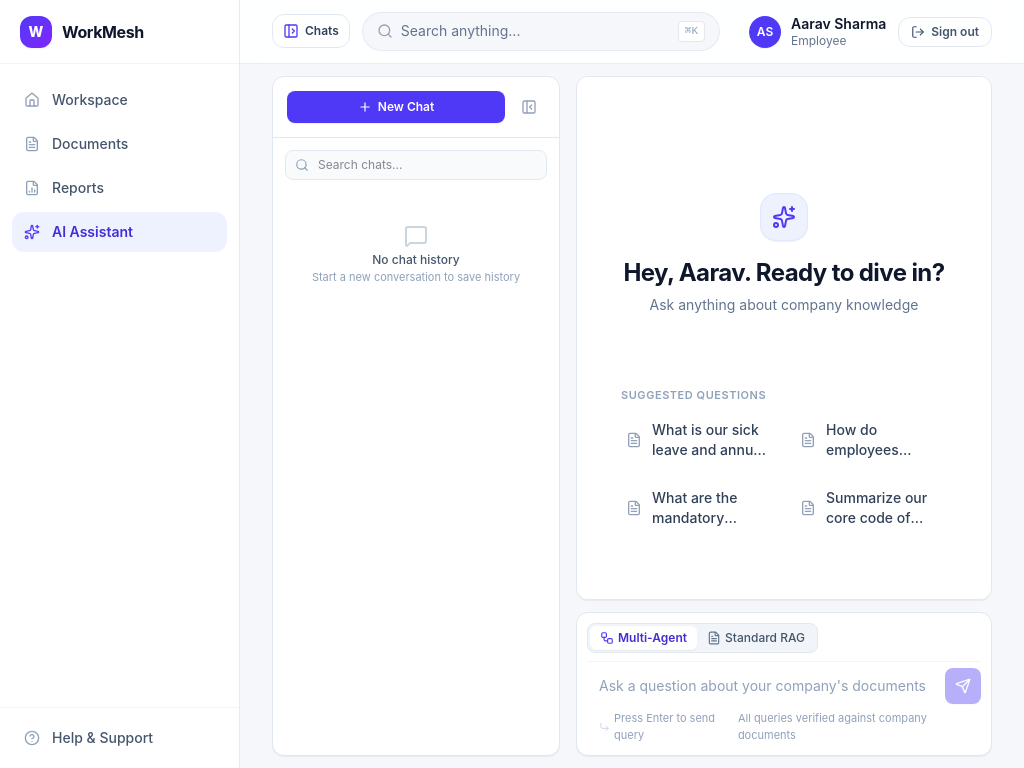
Test: KnowledgeAssistantPage › displays error alert banner when API fails
In the field with placeholder "Ask a question about your company's documents...": (762, 686) left=587, top=668, right=937, bottom=704, type "test question"
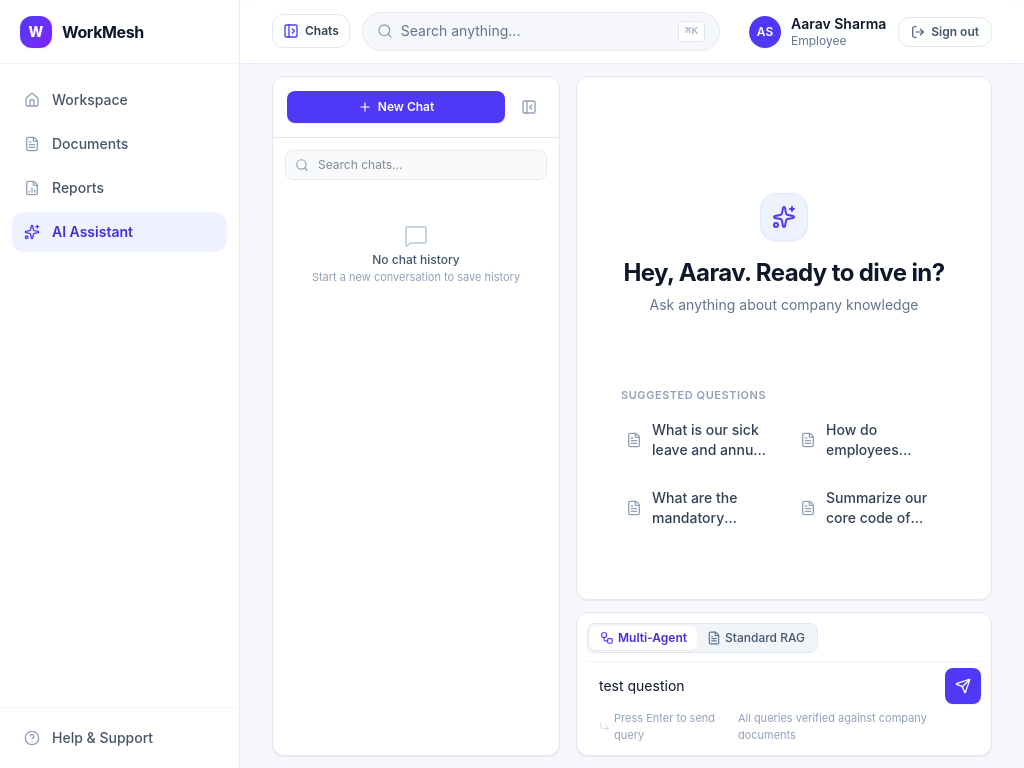
Click the button named "Send message": (963, 686) left=945, top=668, right=981, bottom=704
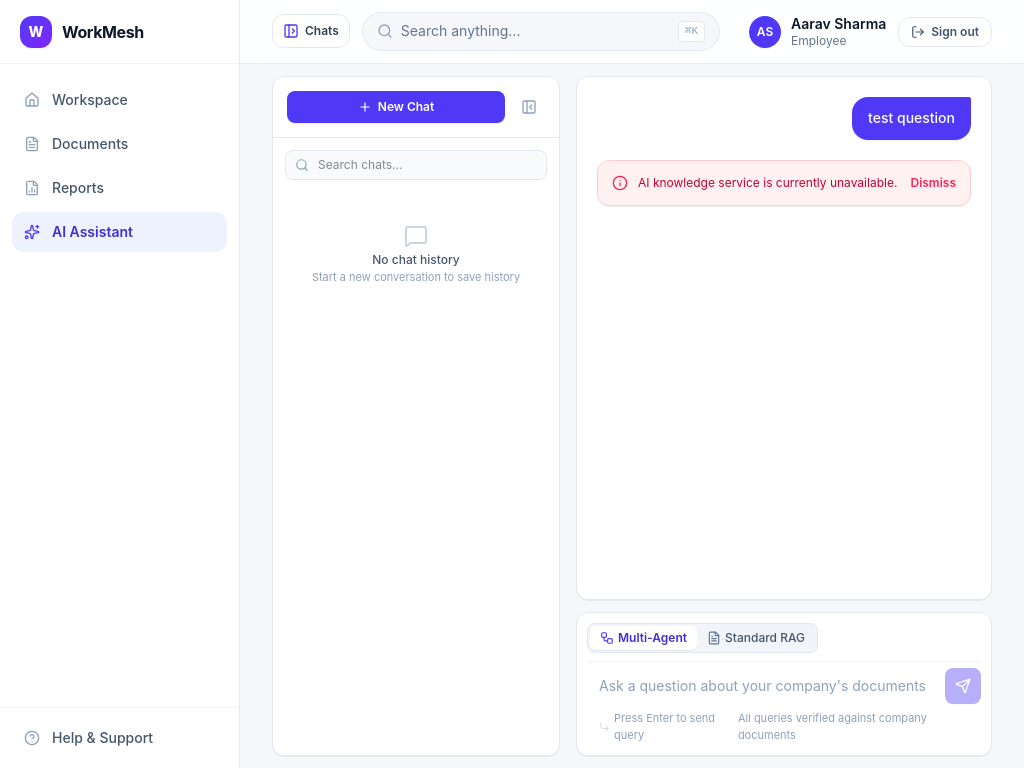
expect the text "AI knowledge service is currently unavailable." is shown: met, box left=638, top=175, right=900, bottom=191
